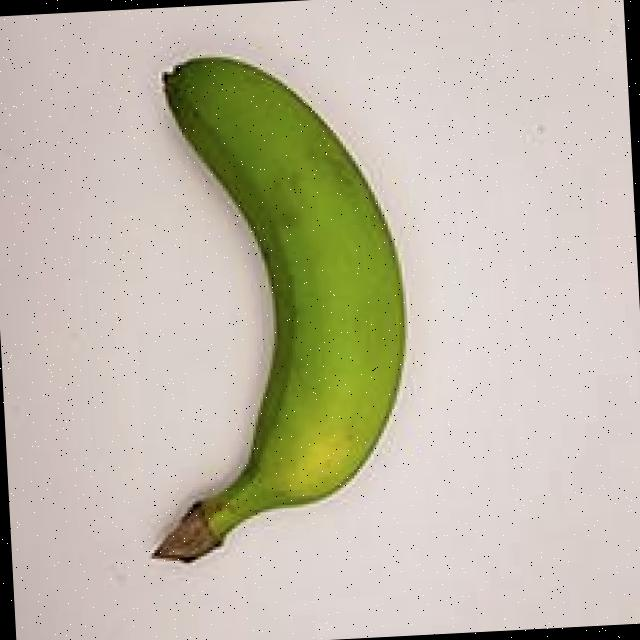Unripe: (102, 46, 440, 575)
